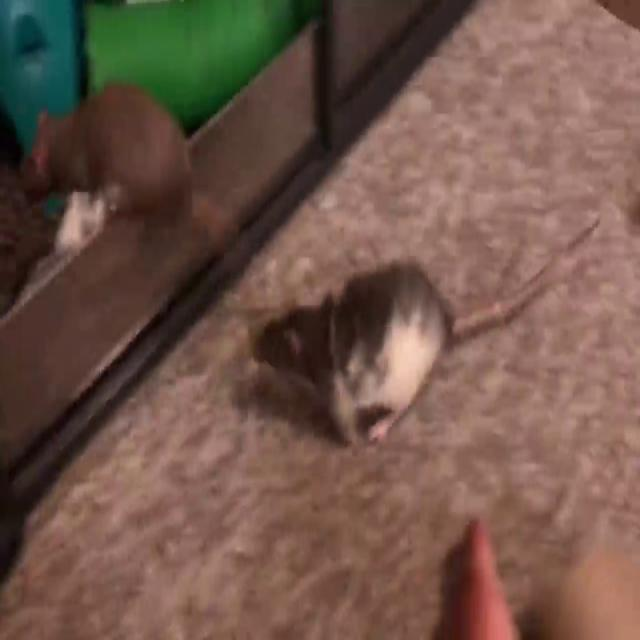rat: (253, 259, 531, 438), (24, 95, 190, 228)
